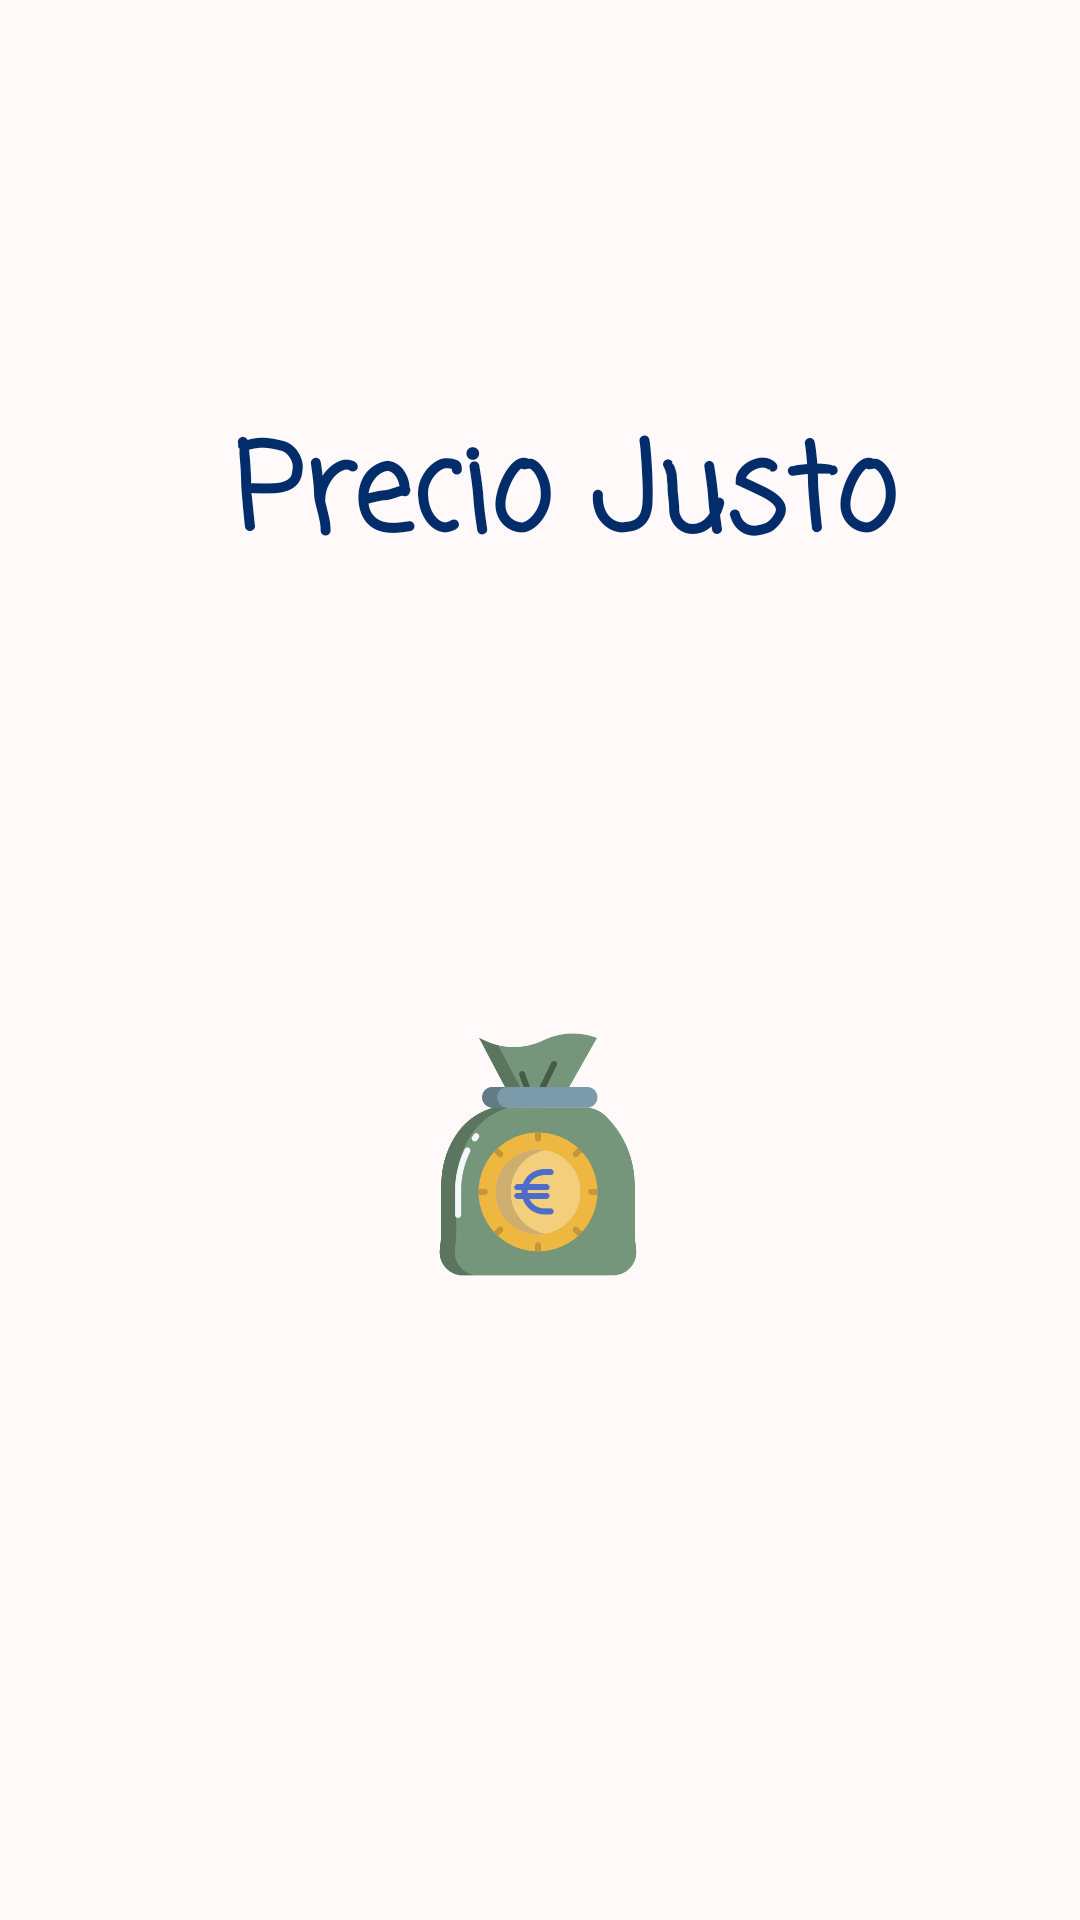

Icon click points for this 1080*1920 phone screenshot, format (x,y):
bolsadinero: (538,1154)
